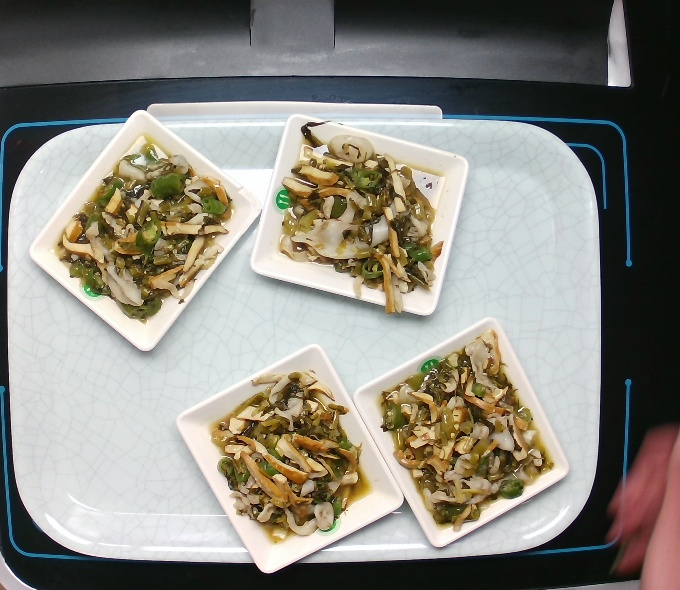wcq-YouYuXueCaiDouGan: (52, 136, 241, 323), (372, 339, 548, 522), (212, 363, 373, 554), (271, 132, 443, 285)
